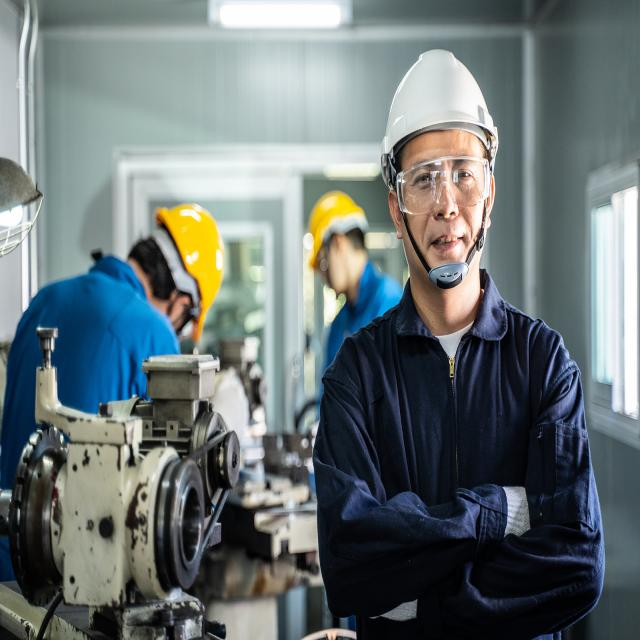helmet: (379, 46, 502, 170), (155, 198, 225, 348), (304, 188, 371, 266)
